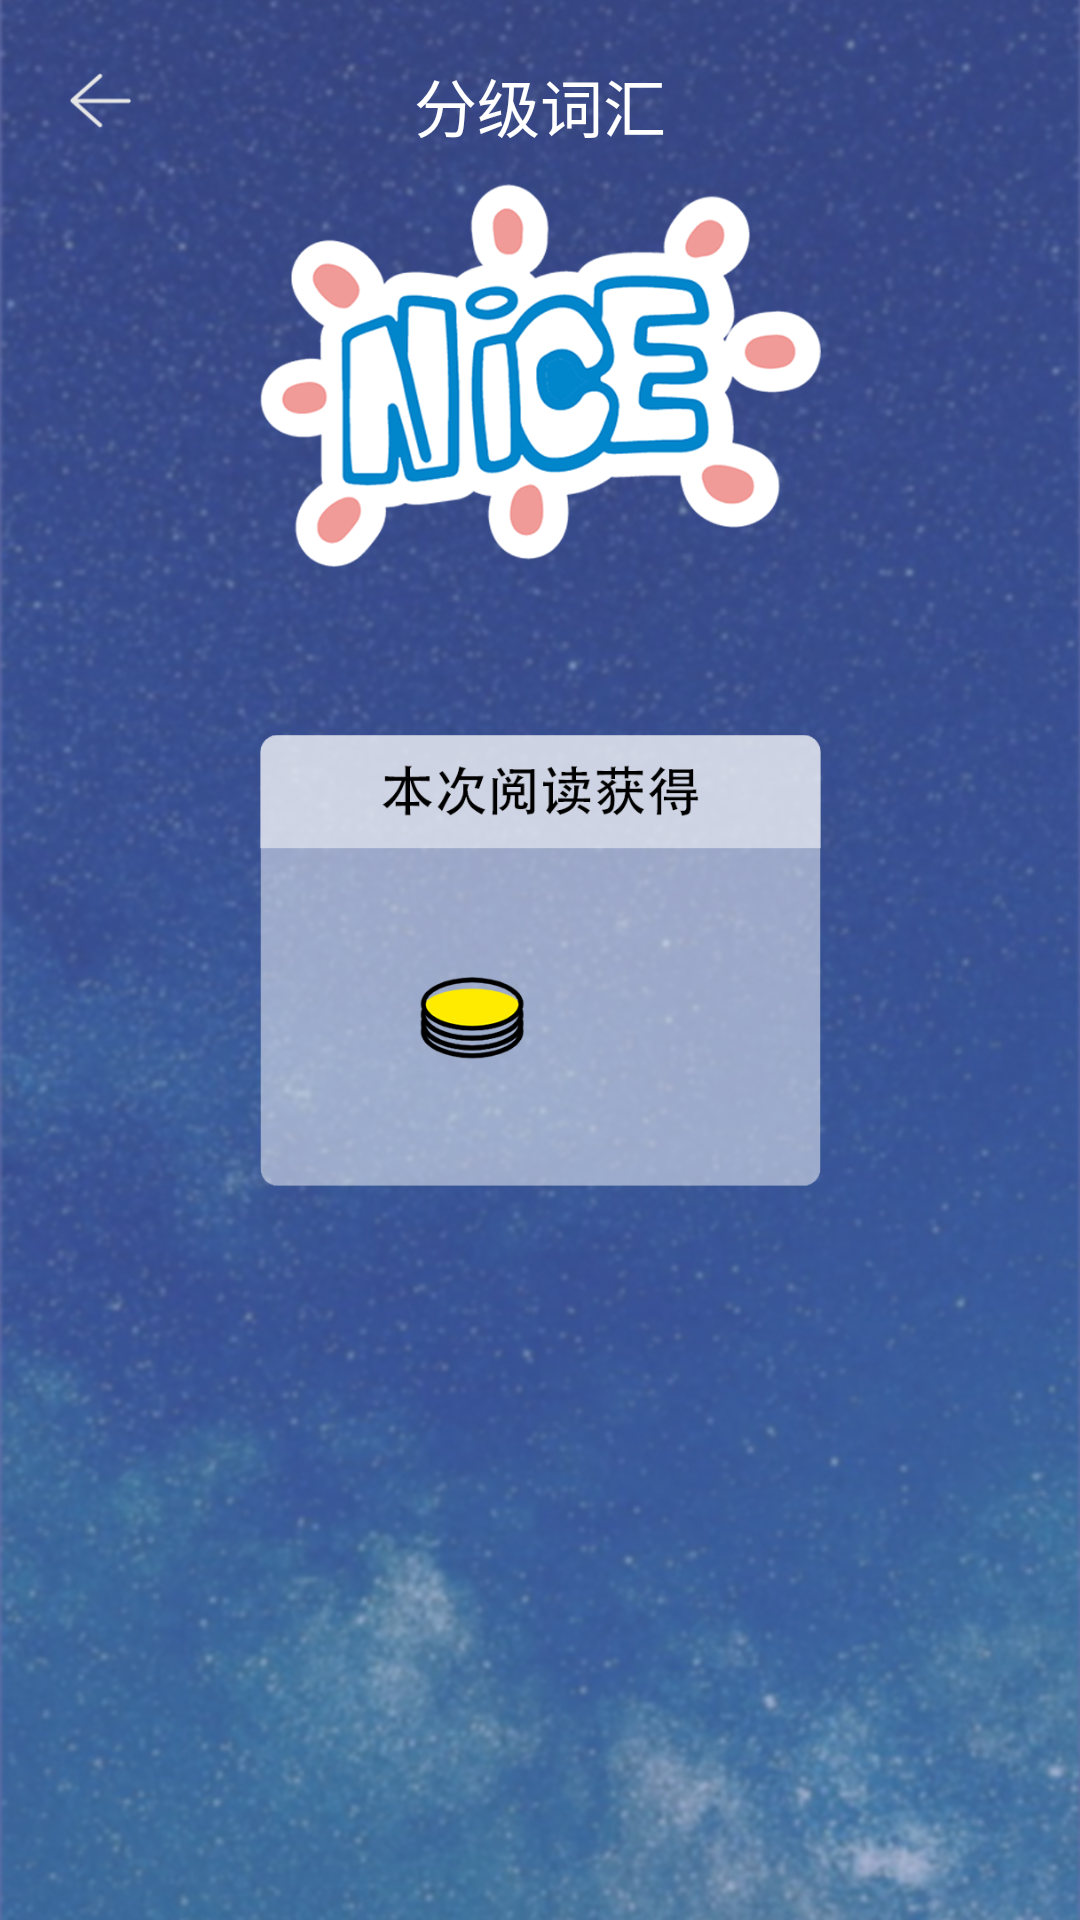

Named icons in this screenshot (1080px×1920px) and their centers, (x=x, y=y):
back: (x=100, y=100)
